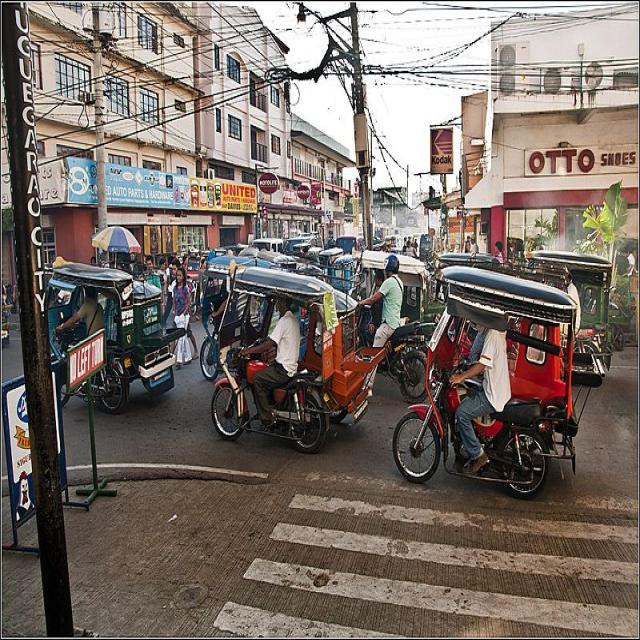Vehicle: (390, 264, 603, 491), (210, 285, 384, 444), (48, 263, 178, 405), (338, 313, 436, 392), (421, 272, 422, 290)
